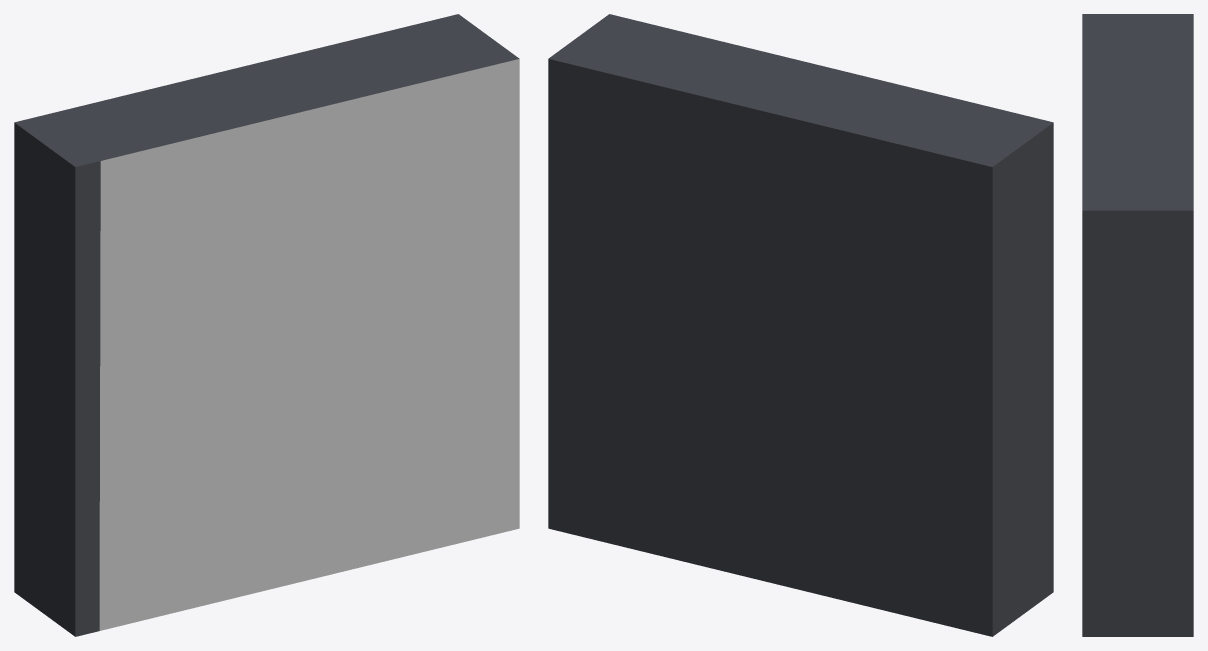
File: GreyStoneEdgeLargeGrassFlooringStraight1.fbx
3 views of the same model, side by side, from view 1: azimuth 30°, elevation 25°; view 2: azimuth 150°, elevation 25°; view 3: azimuth 270°, elevation 25° (orthographic). The views are drawn at different scales.
Visible parts, largest first — view 1: GrassSurface, StoneSurfaces; view 2: StoneSurfaces; view 3: StoneSurfaces.
Part boxes in pixels (x1,y1,x2,y2): GrassSurface: (99,59,519,630); StoneSurfaces: (14,14,519,636); StoneSurfaces: (548,14,1053,636); StoneSurfaces: (1082,14,1193,636).
Bounding box in the file's own units: 11.99 × 12.12 × 2.86.
